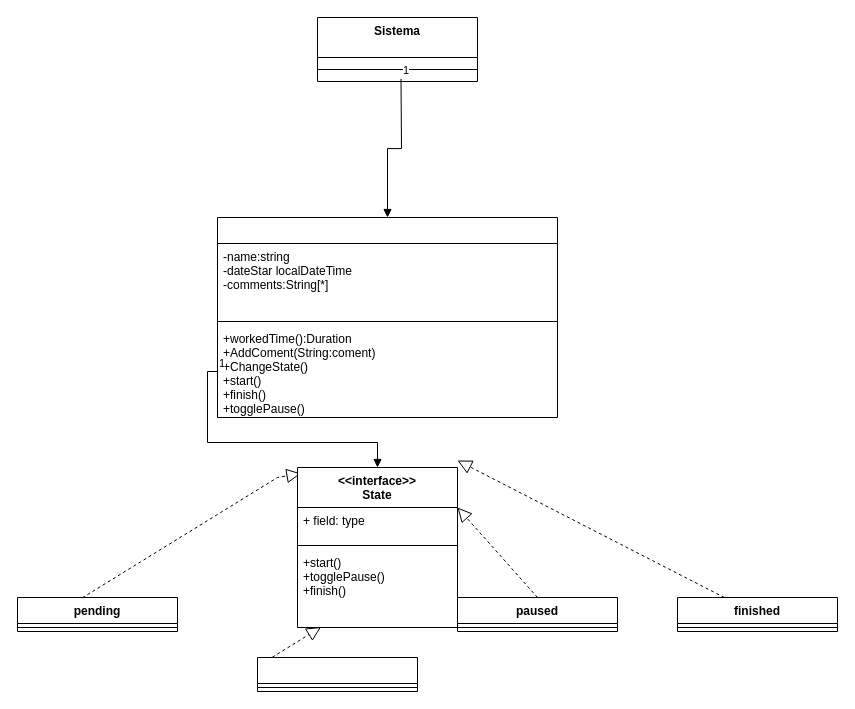
Some shapes in this 855 by 709 pixel diagram are drawn without their labels. Each missing label, with the box of its shape:
in-progress: (256, 656, 418, 692)
ToDoitem: (216, 216, 558, 418)
